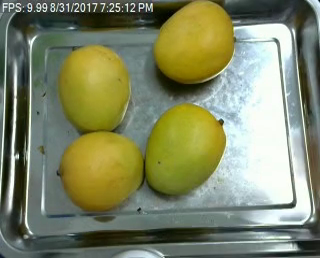Mango: (145, 101, 227, 195), (54, 129, 144, 212), (152, 1, 236, 82), (58, 43, 130, 133)
